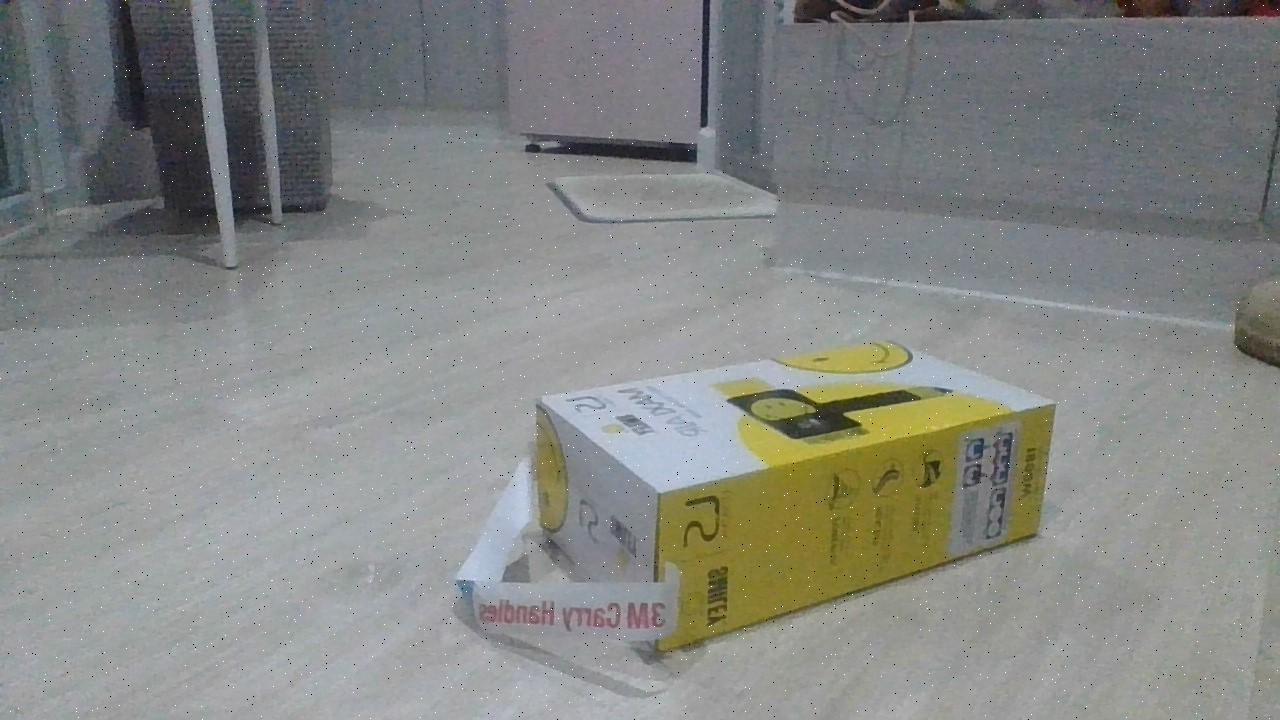Dryer: (528, 333, 1060, 654)
